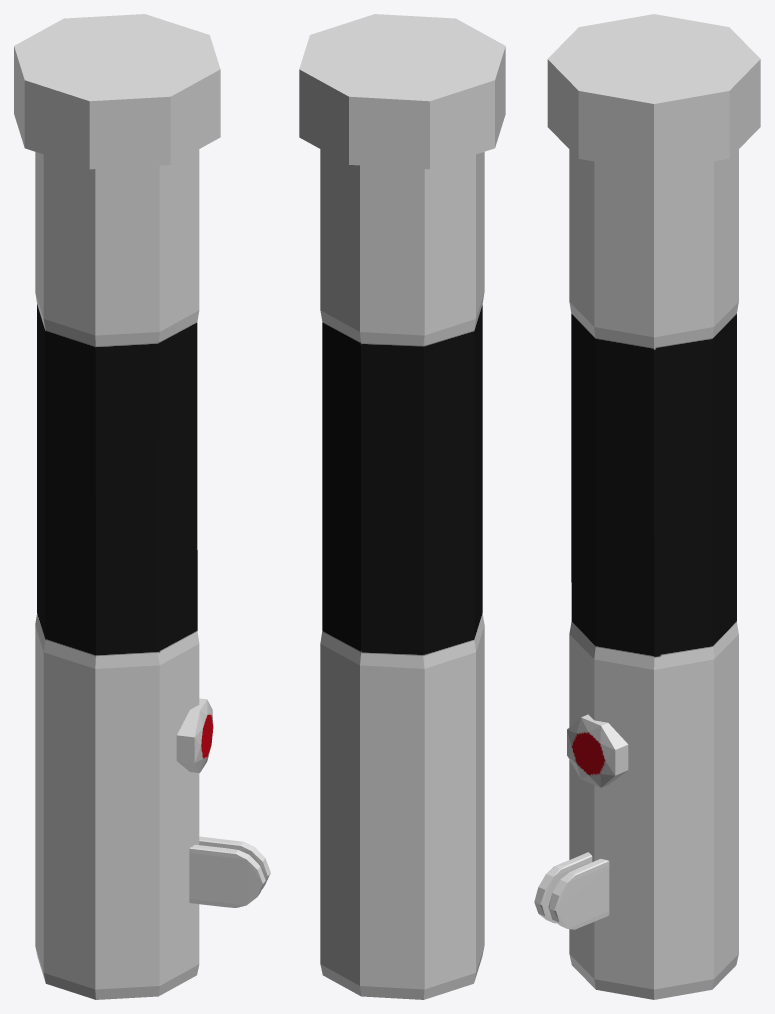
File: lightsaber_off.fbx
3 views of the same model, side by side, from view 1: azimuth 30°, elevation 25°; view 2: azimuth 150°, elevation 25°; view 3: azimuth 270°, elevation 25° (orthographic).
Parts seen in each view (by area): view 1: lightsaber; view 2: lightsaber; view 3: lightsaber.
Part boxes in pixels (x1,y1,x2,y2): lightsaber: (14,14,270,999); lightsaber: (299,14,505,999); lightsaber: (534,14,760,999).
Bounding box in the file's own units: 0.04 × 0.1769 × 0.0401.
